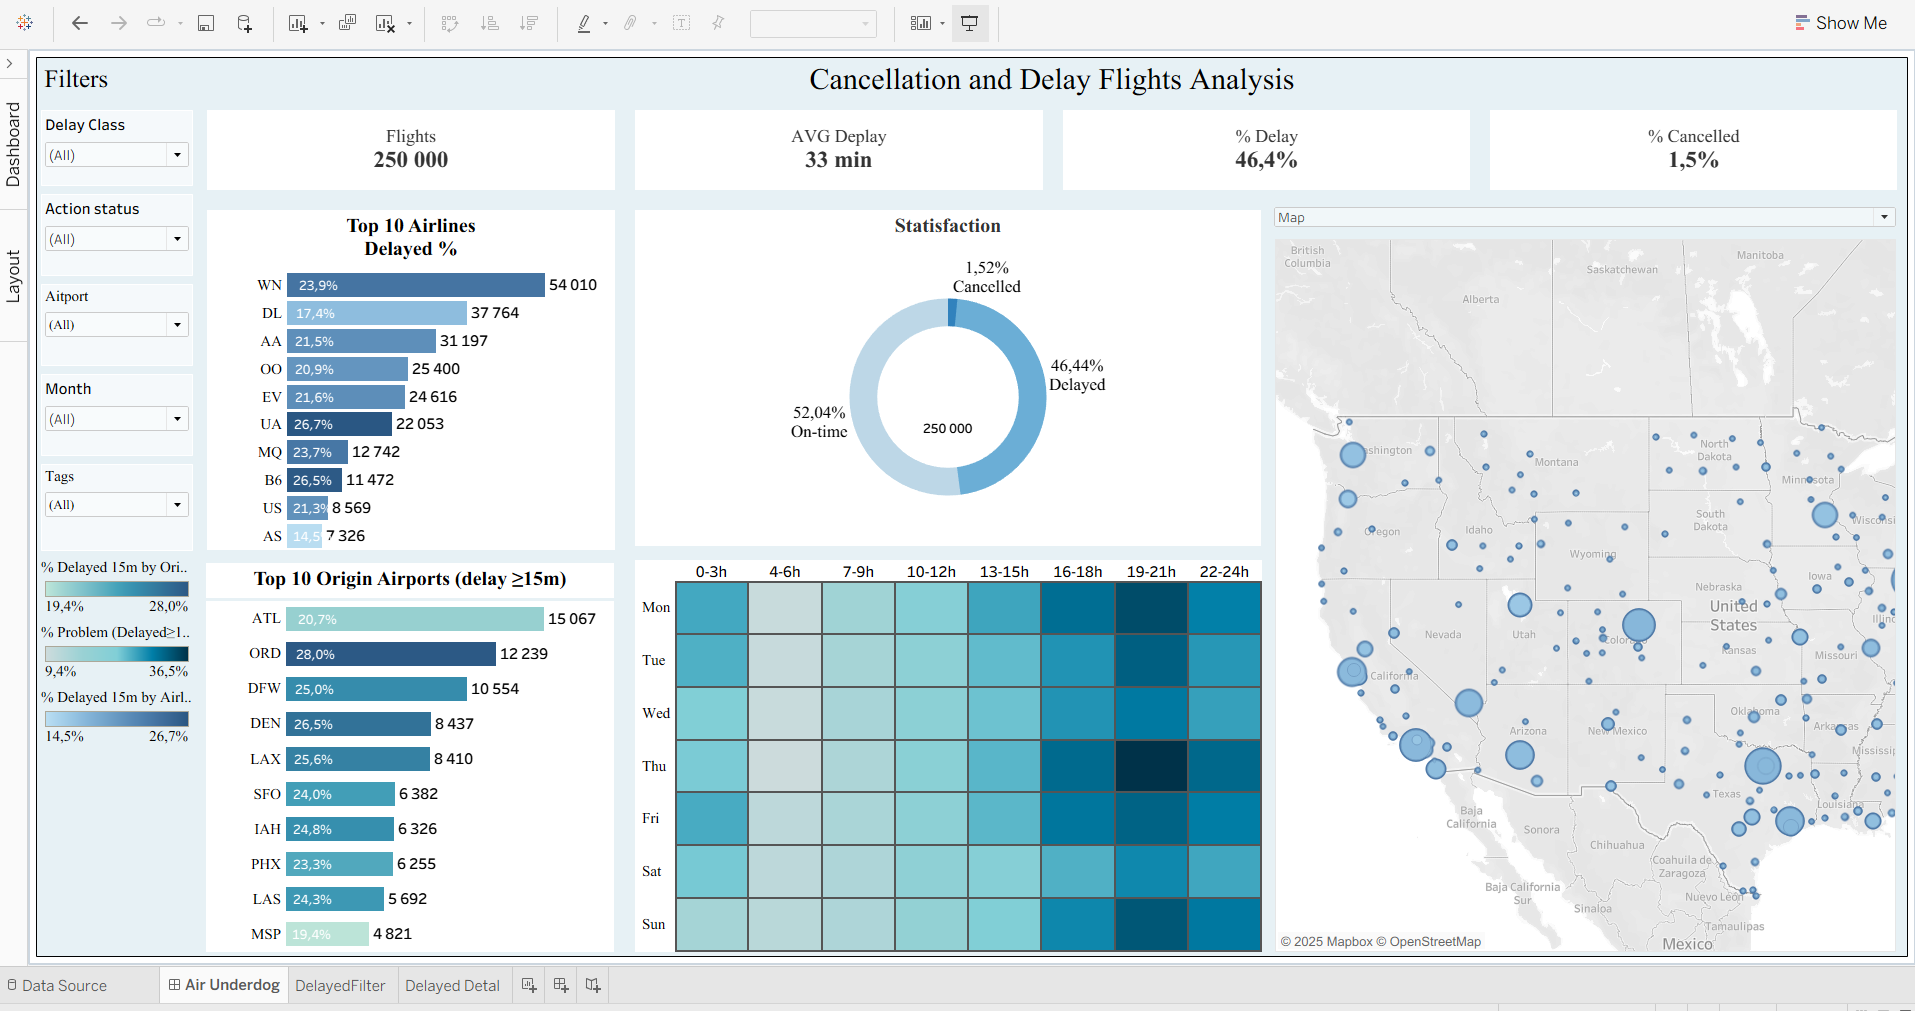

The page's visual inventory and layout, read from the dashboard file:
{"tool":"tableau","page":{"name":"Air Underdog","canvas":[1600,900],"ordinal":0},"visuals":[{"type":"text","box":[9,9,160,42]},{"type":"text","box":[169,9,1422,42]},{"type":"filter","title":"Statisfaction","param":"[federated.1hv3qde1ofenso1ep36o11guu0ek].[none:Calculation_911978980892692481:nk","box":[9,51,160,90]},{"type":"worksheet","title":"Number of Passengers","mark":"Automatic","box":[169,51,356,100]},{"type":"worksheet","title":"Average Arrival Delay","mark":"Automatic","box":[525,51,356,100]},{"type":"worksheet","title":"Average Departure Delay","mark":"Automatic","box":[881,51,355,100]},{"type":"worksheet","title":"Average Flight Distance","mark":"Automatic","box":[1236,51,355,100]},{"type":"filter","title":"Timeline","param":"[federated.1hv3qde1ofenso1ep36o11guu0ek].[Action (Status (bucket))]","box":[9,141,160,90]},{"type":"worksheet","title":"Top 10 Air","mark":"Bar","rows":["Airline"],"cols":["Calculation_1501669056712376346","Calculation_1509550356877598720"],"box":[169,151,355.7,352]},{"type":"worksheet","title":"Statisfaction","mark":"Pie","rows":["Calculation_1501669056699928599","Calculation_1501669056699961369"],"box":[524.7,151,430.3,340]},{"type":"parameter","param":"[Parameters].[Parameter 2]","box":[955,151,636,34]},{"type":"worksheet","title":"Timeline","mark":"Bar","rows":["Calculation_1501669056584040463","Calculation_1501669056717160476"],"cols":["Calculation_1501669056583946254"],"box":[955,185,636,1]},{"type":"worksheet","title":"Map","mark":"Circle","rows":["Calculation_1882786175480266769"],"cols":["Calculation_1882786175481008146"],"box":[955,186,636,705]},{"type":"filter","title":"Top 10 Origin Airports (delay ≥15m)","param":"[federated.1hv3qde1ofenso1ep36o11guu0ek].[attr:AIRPORT (airports.csv):nk]","box":[9,231,160,90]},{"type":"filter","title":"Timeline","param":"[federated.1hv3qde1ofenso1ep36o11guu0ek].[tmn:Calculation_1501669056583946254:ok","box":[9,321,160,90]},{"type":"filter","title":"DelayedF","param":"[federated.1hv3qde1ofenso1ep36o11guu0ek].[none:Calculation_739716295340027906:nk","box":[9,411,160,95]},{"type":"worksheet","title":"DelayedF","mark":"Square","rows":["Calculation_739716295340027906"],"cols":["Calculation_739716295339917313"],"box":[524.7,491,430.3,400]},{"type":"worksheet","title":"Top 10 Origin Airports (delay ≥15m)","mark":"Bar","rows":["Origin Airport"],"cols":["Calculation_1501669056712376346","Calculation_1509550356877598720"],"box":[169,503,355.7,387.9]},{"type":"legend","title":"Top 10 Origin Airports (delay ≥15m)","param":"[federated.1hv3qde1ofenso1ep36o11guu0ek].[usr:Calculation_1882786175389724672:qk","box":[9,506,160,65]},{"type":"legend","title":"DelayedF","param":"[federated.1hv3qde1ofenso1ep36o11guu0ek].[usr:Calculation_1882786175450505217:qk","box":[9,571,160,65]},{"type":"legend","title":"Top 10 Air","param":"[federated.1hv3qde1ofenso1ep36o11guu0ek].[usr:Calculation_1501669056717262877:qk","box":[9,636,160,65]}]}

Visuals, with their boxes on the page's 1600x900 design canvas (x1, y1, x2, y2). These are canvas units, not pixel positions in the 1915x1011 screenshot, which may show the page scaled, cropped or inside an application window:
text: [left=9, top=9, right=169, bottom=51]
text: [left=169, top=9, right=1591, bottom=51]
"Statisfaction" filter: [left=9, top=51, right=169, bottom=141]
"Number of Passengers" worksheet: [left=169, top=51, right=525, bottom=151]
"Average Arrival Delay" worksheet: [left=525, top=51, right=881, bottom=151]
"Average Departure Delay" worksheet: [left=881, top=51, right=1236, bottom=151]
"Average Flight Distance" worksheet: [left=1236, top=51, right=1591, bottom=151]
"Timeline" filter: [left=9, top=141, right=169, bottom=231]
"Top 10 Air" worksheet (Bar marks): [left=169, top=151, right=525, bottom=503]
"Statisfaction" worksheet (Pie marks): [left=525, top=151, right=955, bottom=491]
parameter: [left=955, top=151, right=1591, bottom=185]
"Timeline" worksheet (Bar marks): [left=955, top=185, right=1591, bottom=186]
"Map" worksheet (Circle marks): [left=955, top=186, right=1591, bottom=891]
"Top 10 Origin Airports (delay ≥15m)" filter: [left=9, top=231, right=169, bottom=321]
"Timeline" filter: [left=9, top=321, right=169, bottom=411]
"DelayedF" filter: [left=9, top=411, right=169, bottom=506]
"DelayedF" worksheet (Square marks): [left=525, top=491, right=955, bottom=891]
"Top 10 Origin Airports (delay ≥15m)" worksheet (Bar marks): [left=169, top=503, right=525, bottom=891]
"Top 10 Origin Airports (delay ≥15m)" legend: [left=9, top=506, right=169, bottom=571]
"DelayedF" legend: [left=9, top=571, right=169, bottom=636]
"Top 10 Air" legend: [left=9, top=636, right=169, bottom=701]
